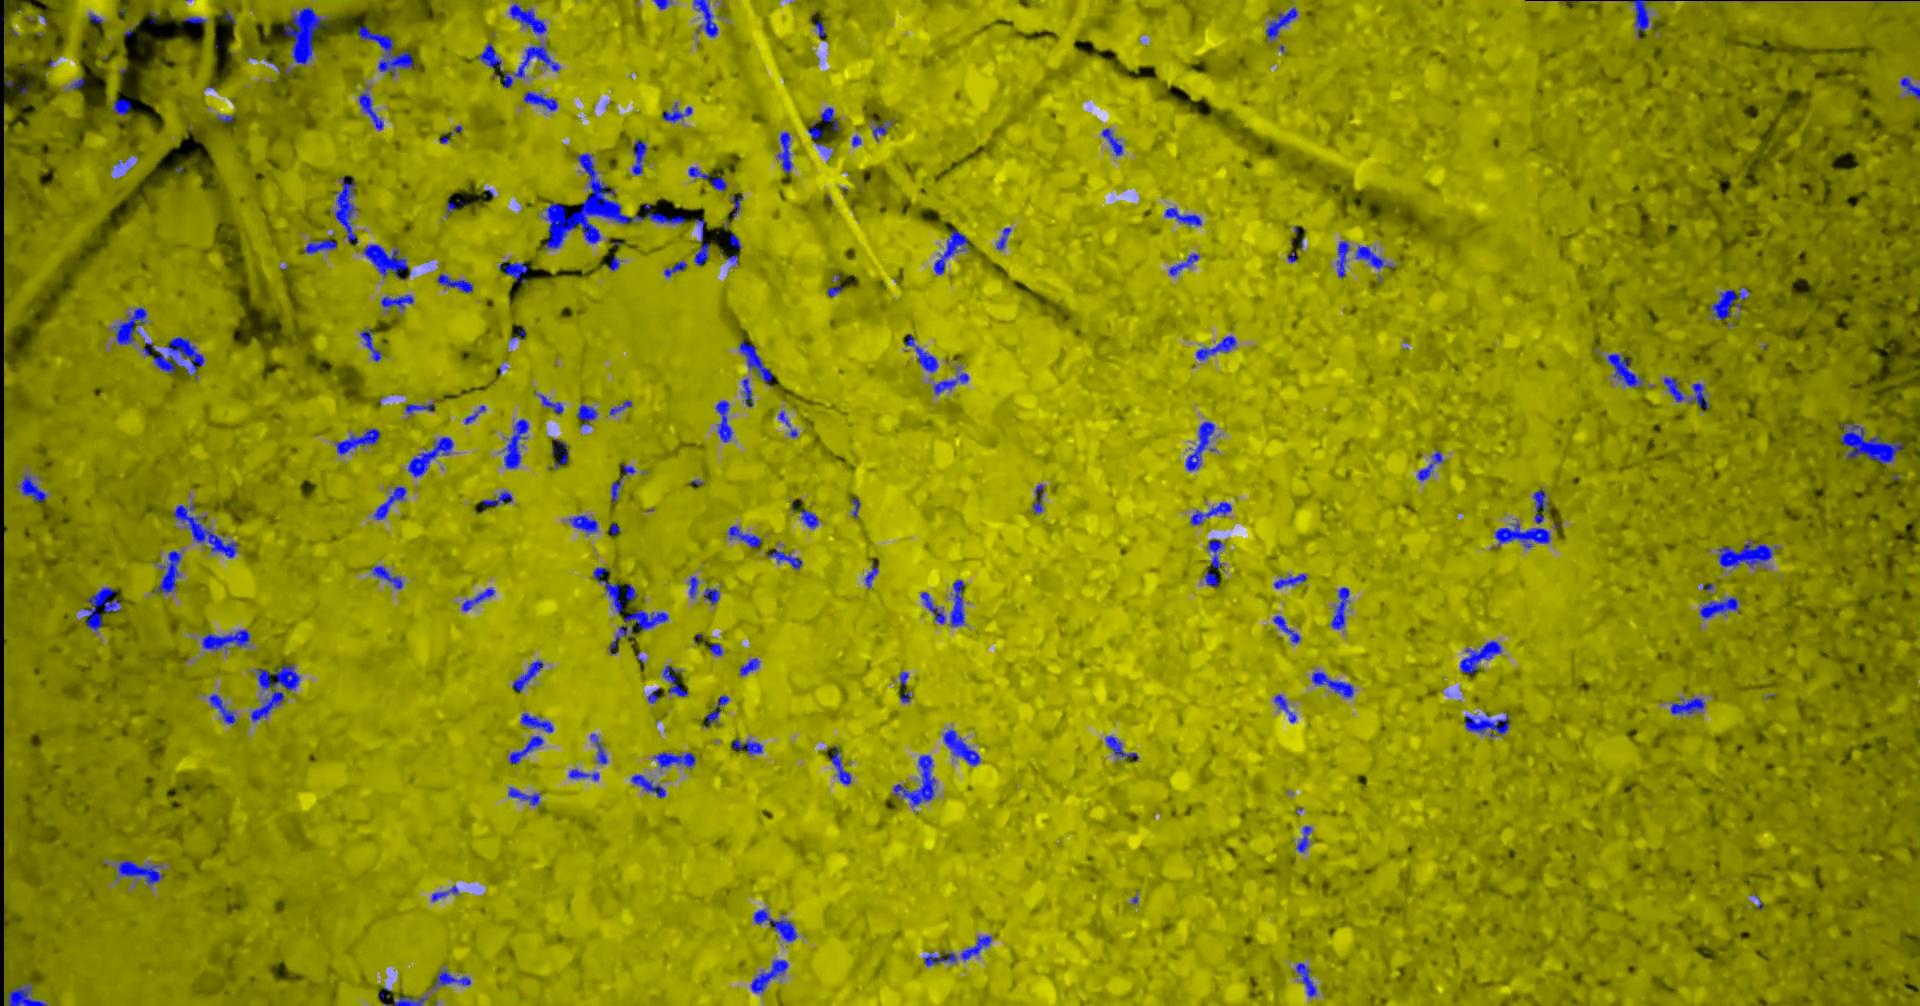ant: (477, 42, 559, 86), (173, 503, 237, 558), (1495, 489, 1549, 547), (357, 25, 417, 76), (250, 663, 300, 721), (608, 608, 667, 654), (893, 754, 935, 807), (919, 579, 964, 626), (593, 567, 636, 614), (152, 337, 204, 375), (408, 436, 453, 476), (83, 586, 119, 631), (933, 227, 968, 274), (334, 175, 357, 244), (362, 244, 408, 278), (1717, 540, 1775, 567), (738, 339, 772, 382), (753, 908, 797, 941), (942, 728, 980, 766), (1185, 420, 1214, 470), (1459, 640, 1501, 674), (1709, 287, 1749, 320), (503, 418, 528, 467), (1608, 353, 1643, 387), (117, 859, 163, 885), (113, 307, 146, 344), (750, 959, 787, 992), (508, 3, 546, 34), (905, 335, 937, 372), (155, 550, 182, 592), (1310, 671, 1352, 697), (358, 86, 383, 130), (337, 428, 380, 453), (373, 486, 406, 520), (1265, 6, 1297, 39), (1627, 0, 1653, 38), (1464, 713, 1509, 735), (201, 629, 250, 649), (510, 661, 543, 691), (508, 735, 543, 763), (1195, 335, 1236, 359), (1190, 500, 1230, 525), (1204, 539, 1224, 587), (933, 366, 968, 394), (687, 166, 726, 191), (1355, 245, 1394, 268), (1699, 596, 1738, 619), (693, 0, 717, 36), (8, 983, 47, 1005), (1416, 448, 1443, 480), (630, 774, 665, 796), (702, 695, 728, 727), (830, 746, 851, 785), (1330, 587, 1349, 629), (1105, 735, 1138, 760), (208, 694, 235, 723), (662, 666, 687, 696), (960, 935, 990, 960), (728, 525, 761, 547), (461, 588, 494, 611), (18, 474, 46, 500), (1272, 615, 1300, 641), (653, 751, 695, 768), (371, 565, 403, 588), (432, 968, 470, 987), (436, 273, 472, 292), (1295, 962, 1316, 996), (715, 400, 731, 442), (361, 328, 381, 361), (1168, 253, 1197, 276), (695, 218, 709, 265), (1164, 207, 1201, 225), (523, 91, 557, 111), (767, 549, 801, 568), (777, 131, 792, 173), (499, 260, 527, 283), (535, 391, 563, 414), (1272, 694, 1295, 721), (521, 713, 552, 732), (507, 788, 540, 805), (1101, 128, 1123, 155), (1670, 697, 1704, 714), (662, 102, 691, 121), (631, 138, 646, 174), (589, 733, 607, 763), (568, 514, 597, 532), (303, 238, 337, 253), (380, 293, 413, 309), (1272, 573, 1305, 588), (731, 738, 762, 754), (923, 951, 956, 967), (1663, 377, 1684, 401), (1688, 382, 1708, 406), (1336, 240, 1349, 278), (577, 403, 597, 426), (481, 490, 512, 506), (820, 107, 839, 131), (1898, 77, 1919, 99), (552, 439, 568, 467), (430, 885, 457, 901), (872, 119, 891, 140), (463, 405, 485, 423), (808, 119, 822, 146), (1297, 826, 1310, 852), (110, 97, 130, 116), (404, 403, 436, 414), (568, 768, 599, 780), (739, 657, 759, 674), (863, 561, 877, 587), (663, 260, 686, 276), (800, 509, 818, 528), (610, 399, 631, 414), (444, 199, 465, 215), (392, 996, 427, 1005), (996, 227, 1010, 249), (1032, 484, 1043, 513), (742, 379, 752, 406), (610, 478, 621, 502), (729, 194, 742, 216), (703, 587, 719, 605), (688, 575, 698, 598), (709, 641, 723, 655), (729, 232, 740, 249), (825, 285, 842, 296), (648, 687, 659, 702), (651, 0, 670, 9), (814, 22, 825, 36), (608, 255, 618, 271), (851, 497, 858, 517), (182, 17, 204, 23)
